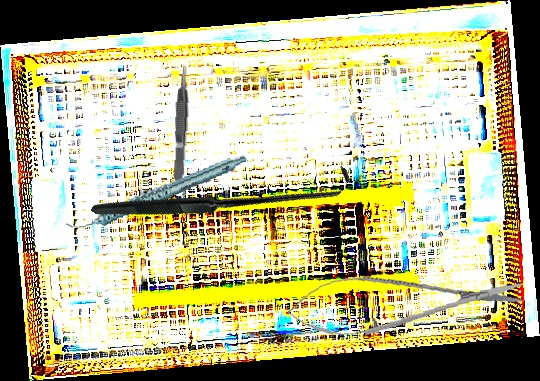Handpiece: (59, 154, 254, 233)
Hook Surgical: (90, 62, 354, 323)
Micro Scissor: (285, 261, 527, 344)
Tissue Forceps: (169, 63, 193, 185)
